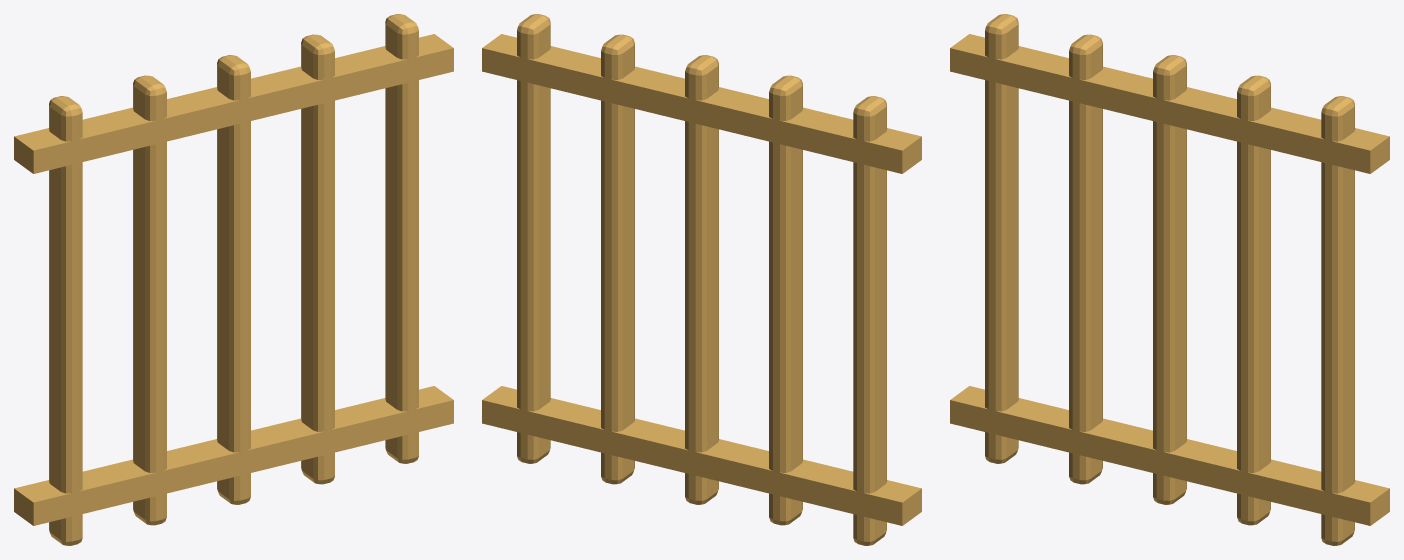
The picture shows the model from 3 angles, left to right: view 1: azimuth 30°, elevation 25°; view 2: azimuth 150°, elevation 25°; view 3: azimuth 330°, elevation 25°; orthographic projection.
Visible parts, largest first — view 1: ai_export.016; view 2: ai_export.016; view 3: ai_export.016.
Part boxes in pixels (bbox=[...]): ai_export.016: bbox=[14, 14, 453, 545]; ai_export.016: bbox=[482, 14, 921, 545]; ai_export.016: bbox=[950, 14, 1389, 545].
Size of the model in its own units: 1.5 by 1.5 by 0.12.
